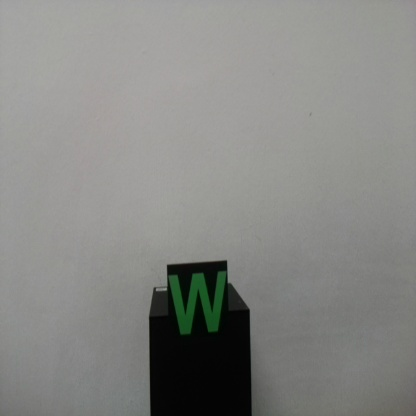id_12: (166, 264, 228, 347)
